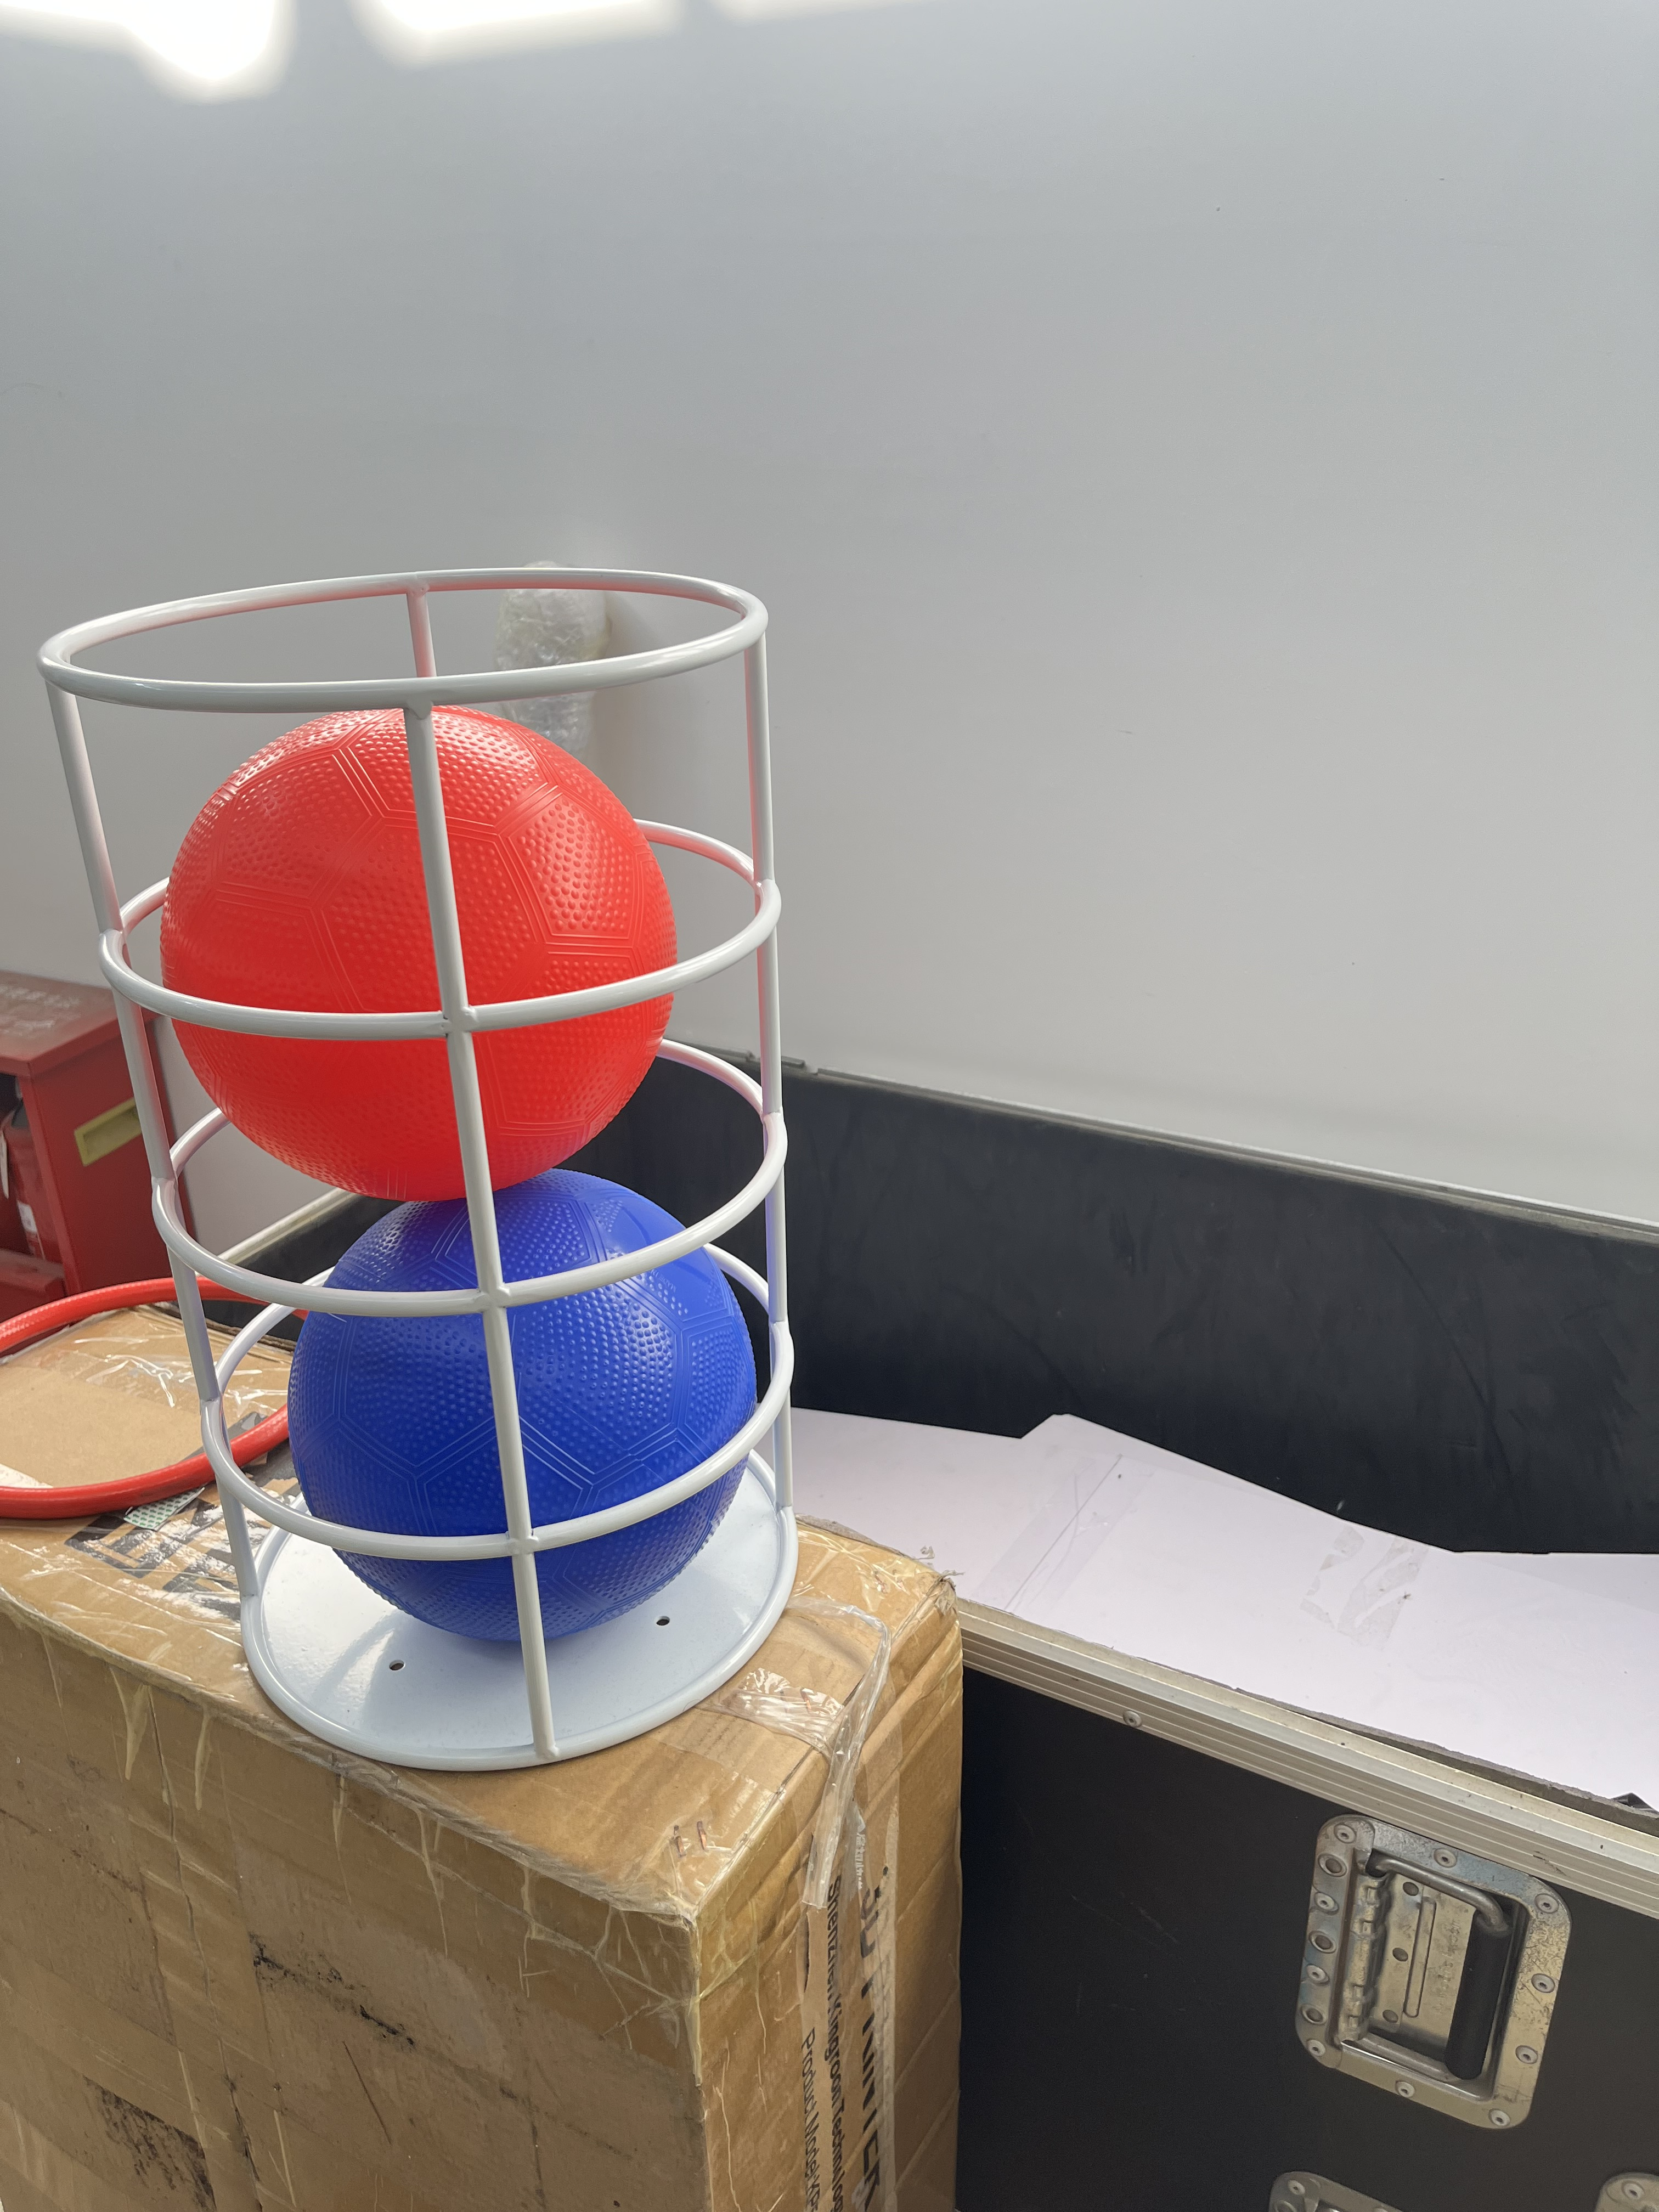blacket: (23, 550, 836, 1796)
blue: (274, 1170, 775, 1658)
red: (150, 681, 688, 1214)
